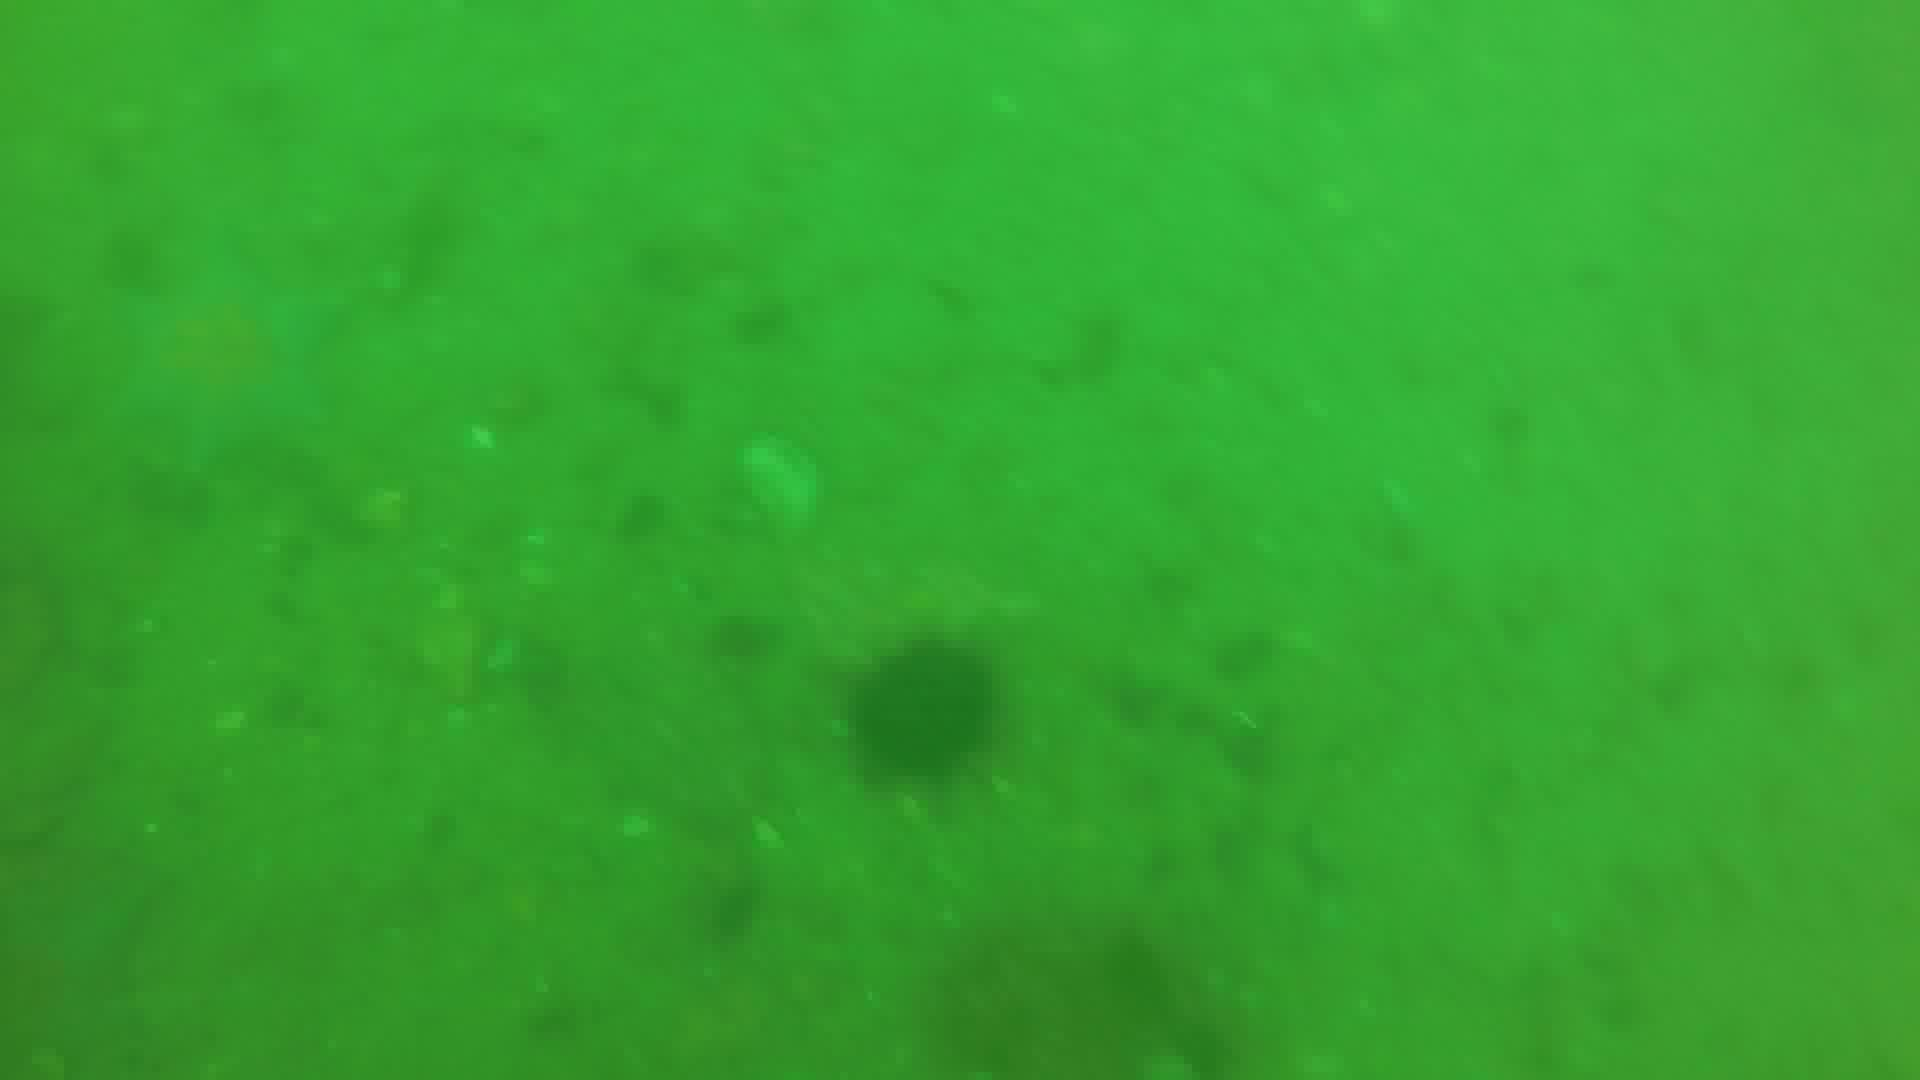echinus: (860, 636, 1010, 795)
scallop: (740, 436, 815, 541)
